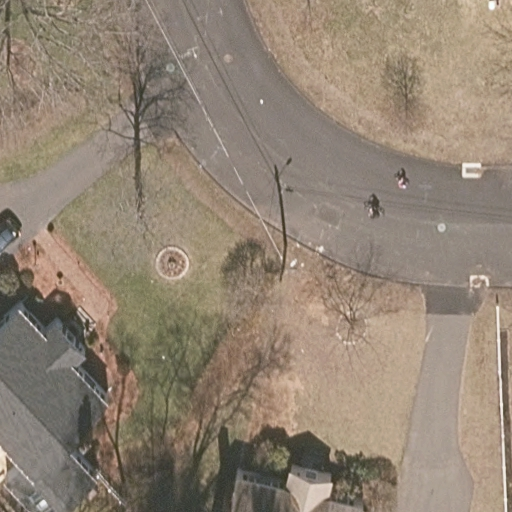DT: (278, 244, 293, 282)
